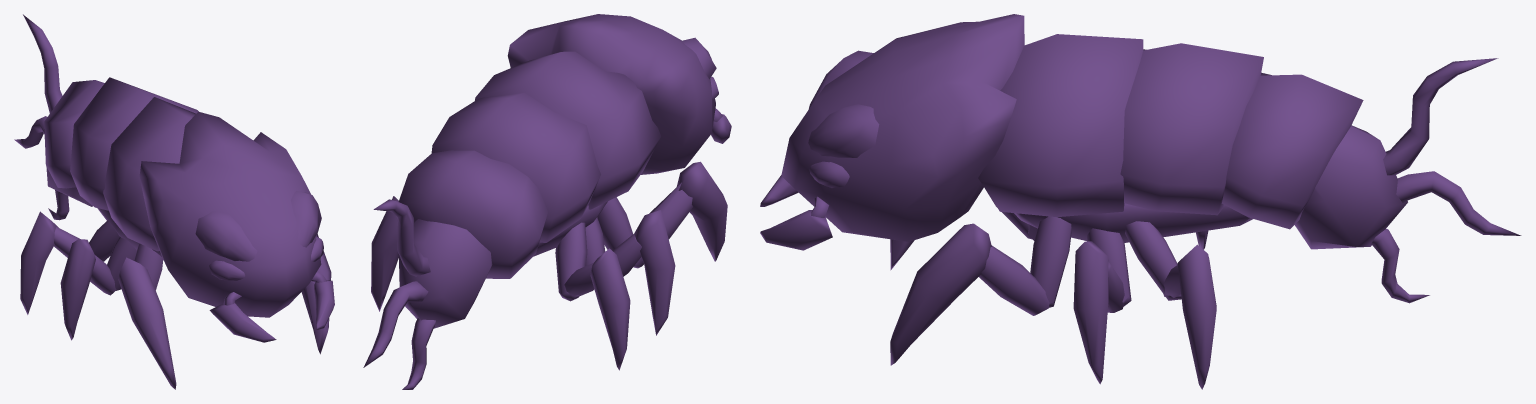
File: Enemy_001.fbx
3 renders of one model, left to right at view 1: azimuth 30°, elevation 25°; view 2: azimuth 150°, elevation 25°; view 3: azimuth 270°, elevation 25°, orthographic. The views are drawn at different scales.
Visible parts, largest first — view 1: Enemy_001; view 2: Enemy_001; view 3: Enemy_001.
Part boxes in pixels (x1,y1,x2,y2): Enemy_001: [14, 14, 334, 389]; Enemy_001: [363, 14, 731, 389]; Enemy_001: [760, 14, 1521, 389].
Bounding box in the file's own units: 72.52 × 70.93 × 160.
